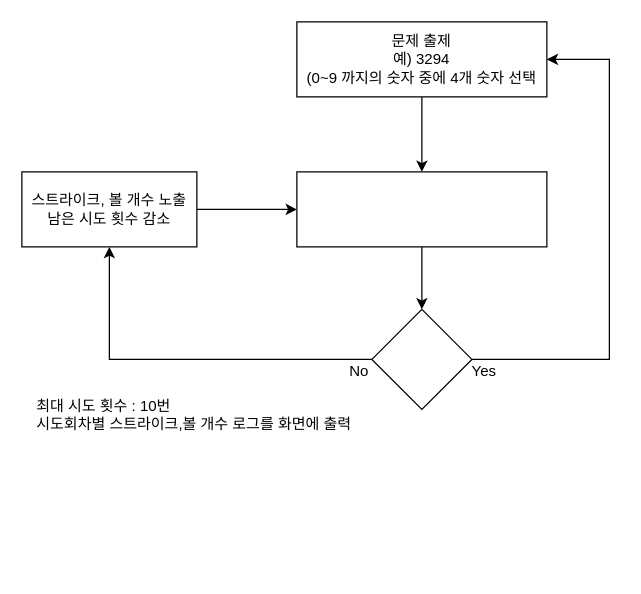
The diagram is 641 pixels wide and 594 high, and some of its shapes have lost their labels. The centre of each missing label's shape, as x and y in pixels:
"정답 제출" belongs at point 421,209.
"정답?" belongs at point 421,358.
